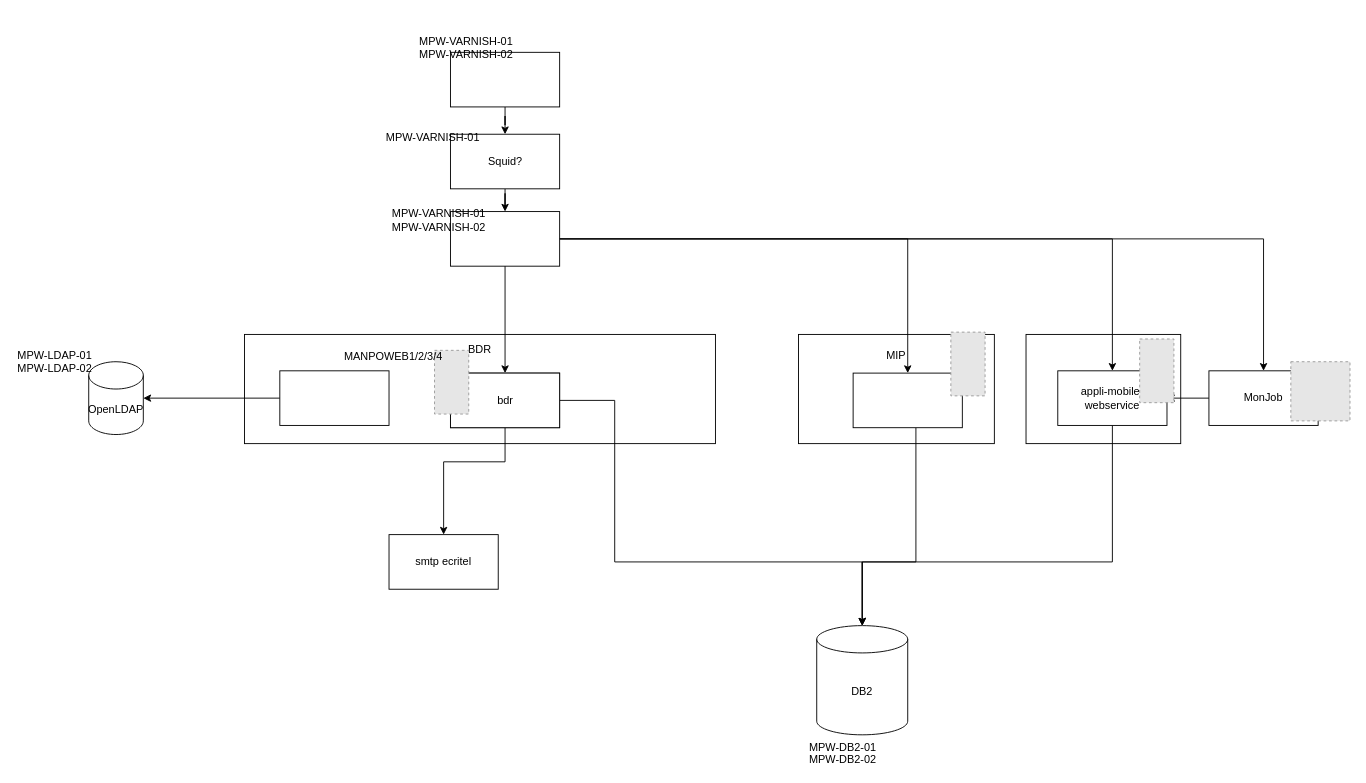
This 1366x783 diagram has some shape labels left out. Grey dashed boxes stand in for pictures. The box of each missing label's shape, as (x1, y1, x2, y2) in pixels:
Apache: (450, 211, 560, 266)
Appli mobile Backend: (1025, 334, 1181, 444)
BDR-Batchs vers ldap: (279, 370, 389, 425)
support-interimaire-web: (852, 372, 962, 428)
Varnish: (450, 51, 560, 107)
